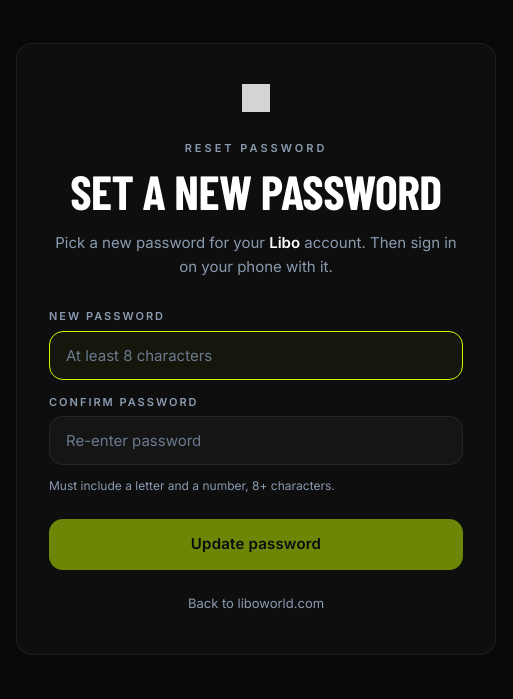
Scenario: AuthCallback › recovery › rejects passwords missing a number
Check: the heading "Set a new password" is shown, box [49,169,463,215]
Type "longenough" into the password field with placeholder "At least 8 characters" at coordinates (256, 355), box [49,330,463,380]
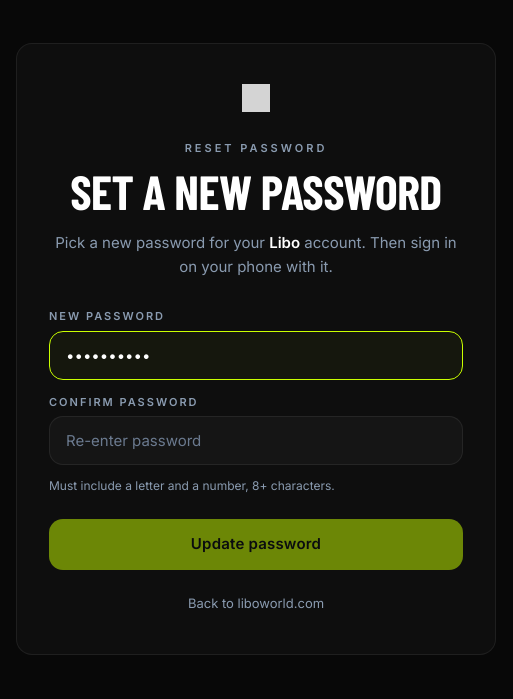
Type "longenough" into the password field with placeholder "Re-enter password" at coordinates (256, 440), box [49,416,463,465]
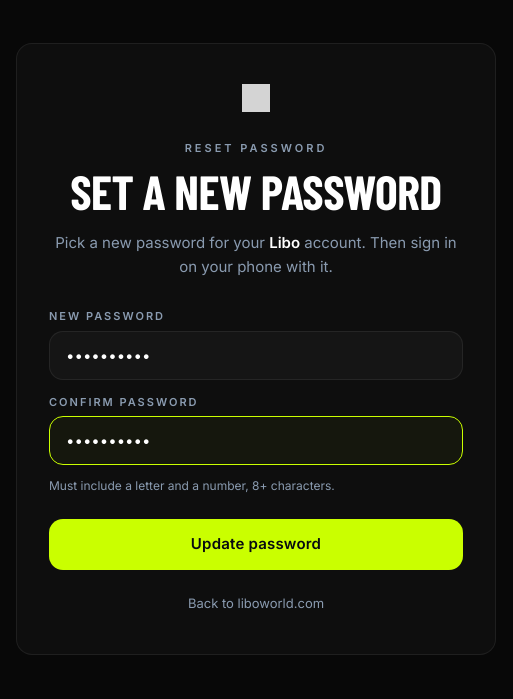
Click the button "Update password" at coordinates (256, 544), box [49,519,463,570]
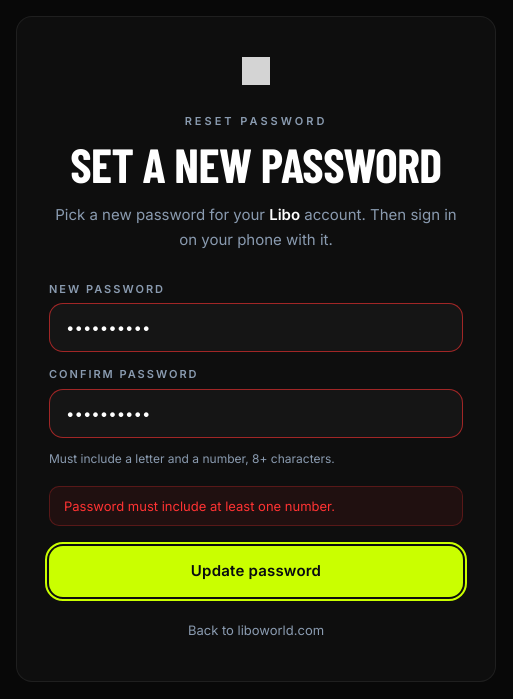
Check: the message shows "include at least one number", box [64,498,335,514]
